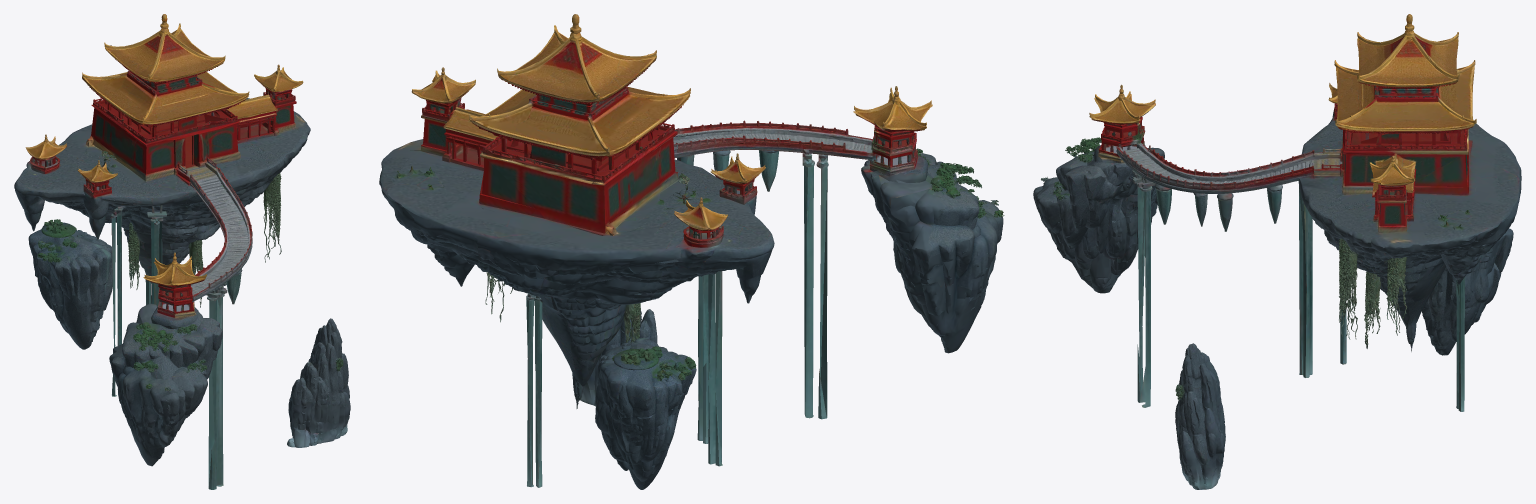
File: sky_palace.hd.glb
The picture shows the model from 3 angles, left to right: view 1: azimuth 30°, elevation 25°; view 2: azimuth 150°, elevation 25°; view 3: azimuth 270°, elevation 25°; orthographic projection. The views are drawn at different scales.
Size of the model in its own units: 1.62 by 1.82 by 1.89.
1 material, 1 textured.
